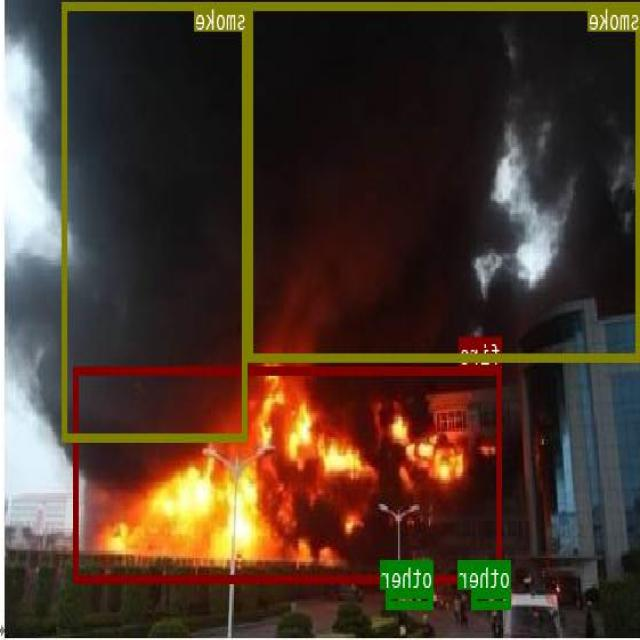fire: (75, 365, 502, 581)
other: (388, 588, 434, 607), (473, 588, 511, 607)
smoke: (249, 1, 640, 360), (64, 0, 248, 441)
